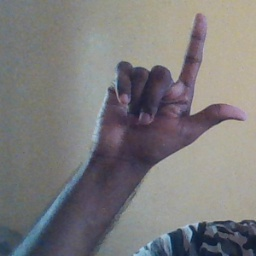L: (92, 11, 247, 158)
